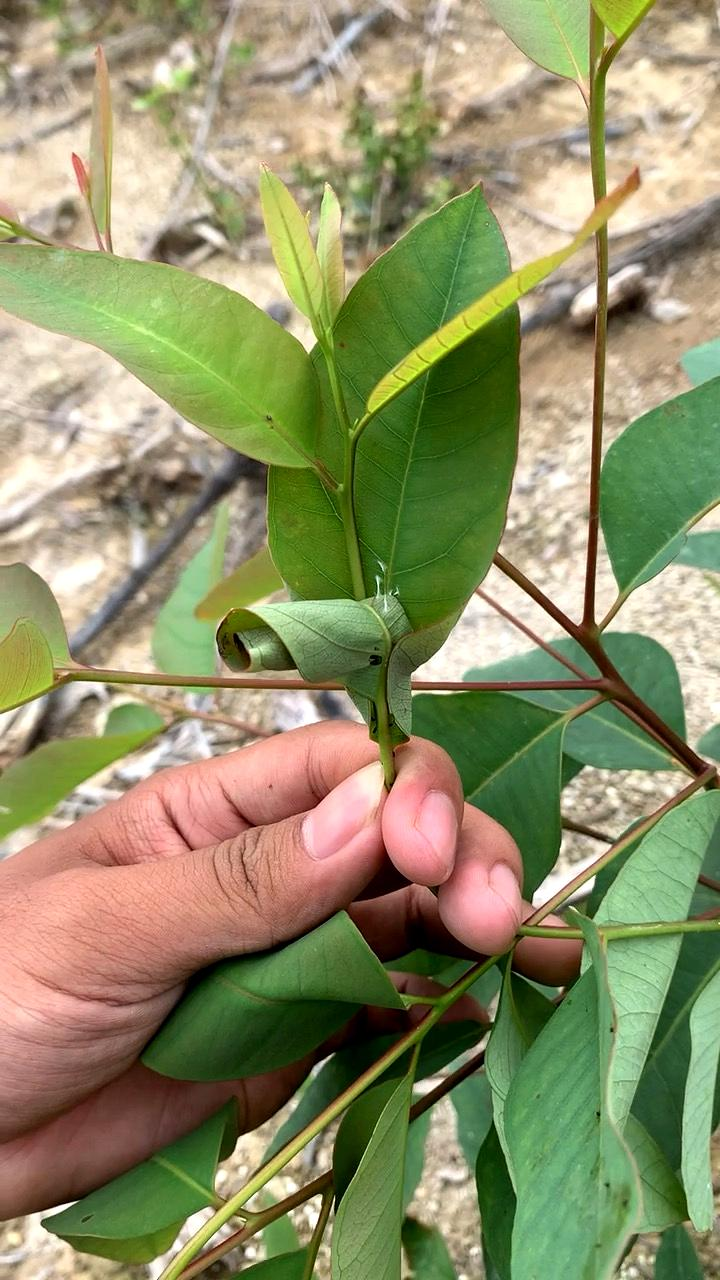Leaf Roller - Leaf: (196, 560, 451, 712)
